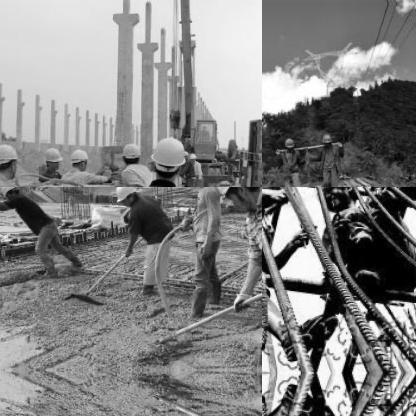Helmet: (148, 132, 188, 180), (211, 187, 261, 213), (308, 187, 363, 208), (0, 141, 19, 179), (262, 187, 291, 207), (40, 146, 62, 170), (119, 140, 139, 166), (111, 187, 137, 207), (68, 148, 88, 172), (0, 187, 21, 201), (281, 134, 297, 150), (318, 130, 332, 146)
